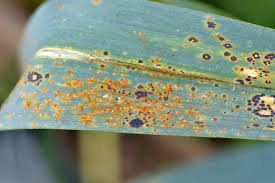Leaf Rust: (29, 20, 269, 148)
